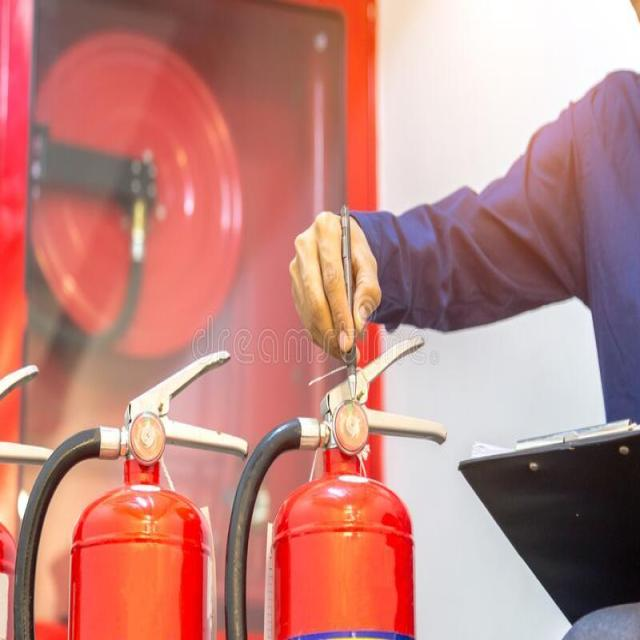fire_extinguisher: (218, 328, 450, 639), (12, 343, 251, 639)
